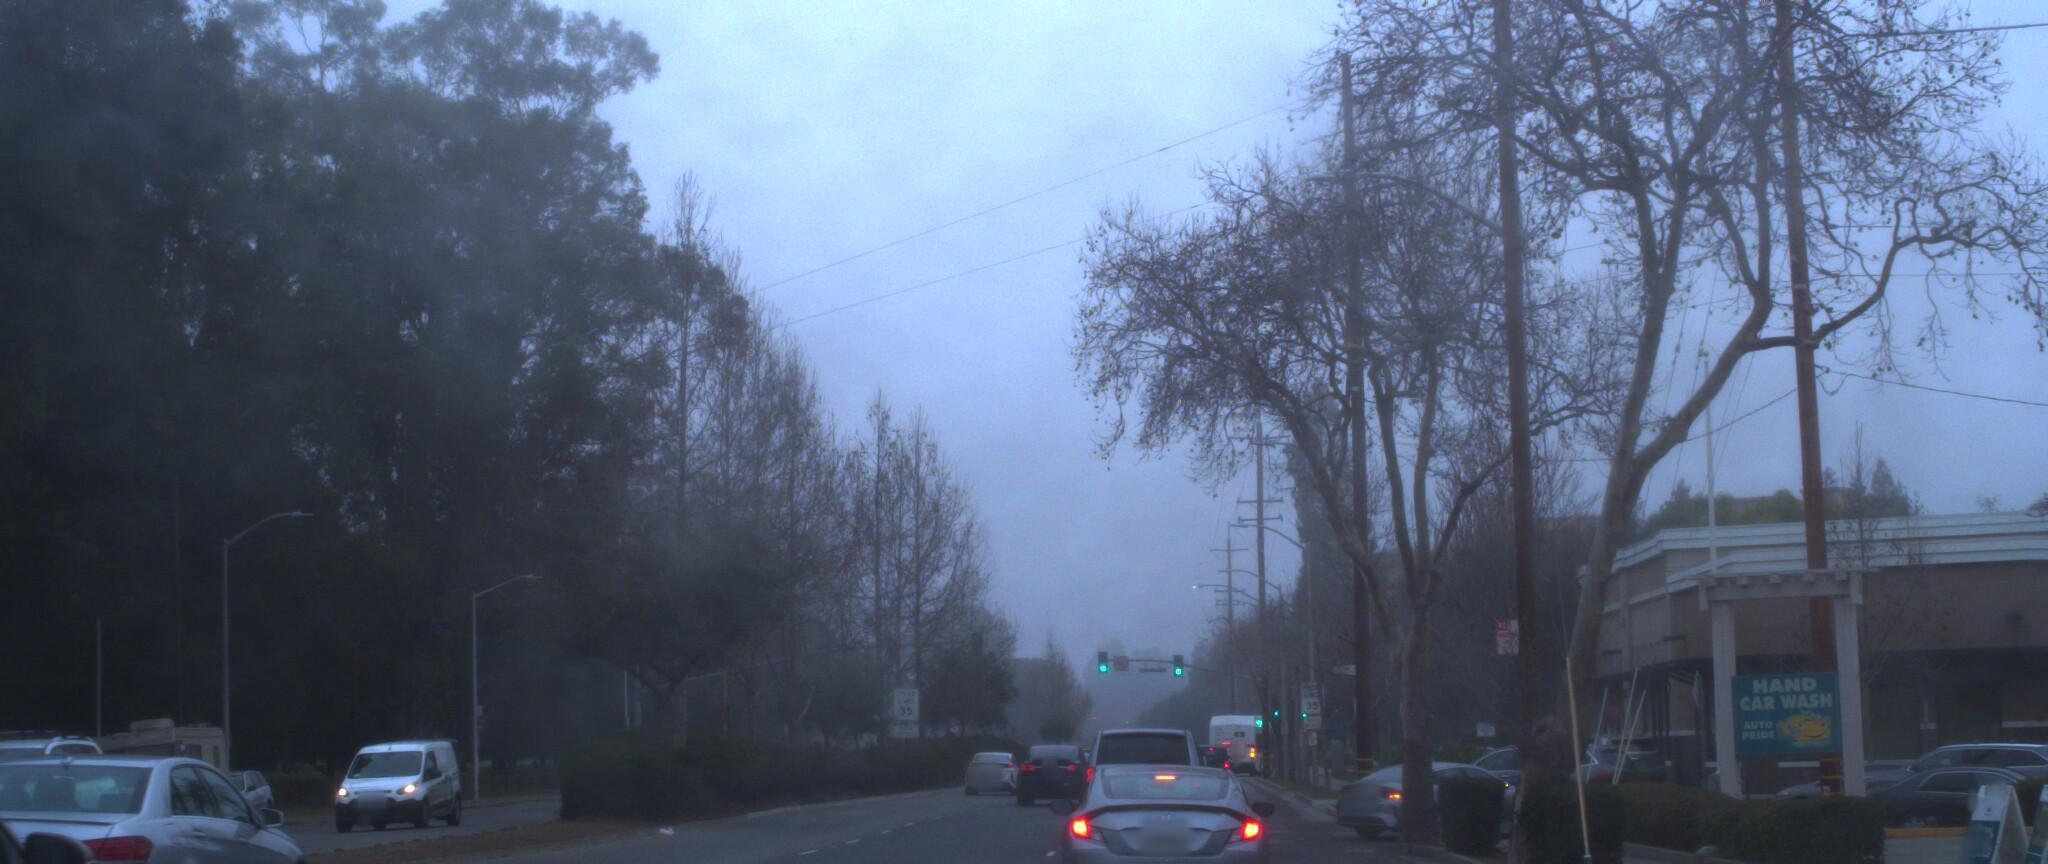car: (0, 594, 226, 864), (0, 737, 338, 864), (1040, 741, 1283, 864), (1297, 735, 1527, 824), (0, 717, 135, 864), (1078, 715, 1220, 843), (324, 733, 477, 837), (1002, 736, 1087, 803)
other_vehicle: (60, 702, 242, 834)
